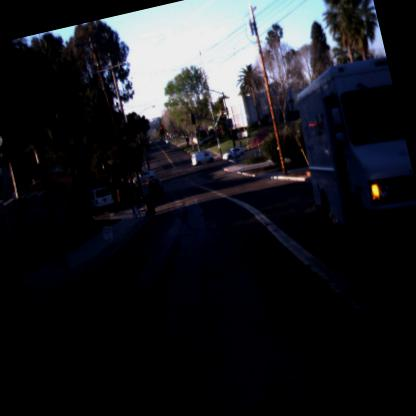trafficlight: (158, 126, 166, 142)
